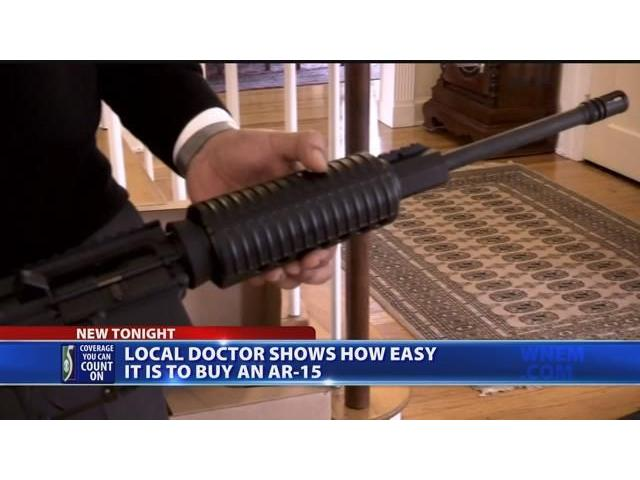rifle: (16, 89, 632, 390)
